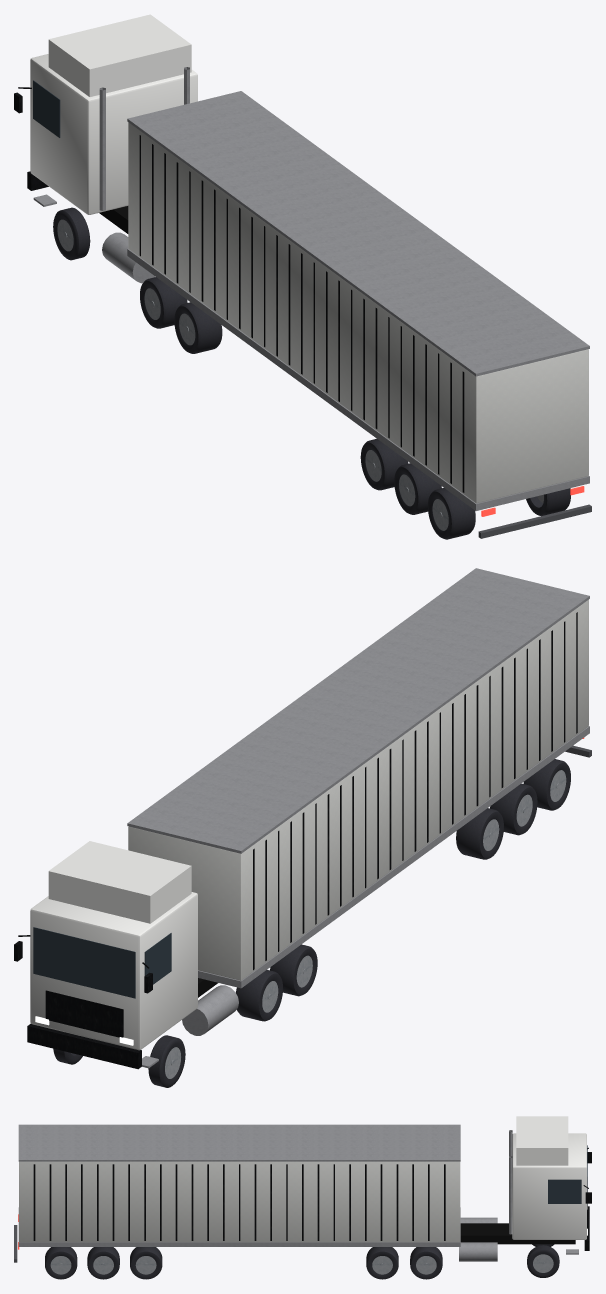
Rendered from truck_artic_white.gltf.
3 renders of one model, top to bottom at view 1: azimuth 30°, elevation 25°; view 2: azimuth 150°, elevation 25°; view 3: azimuth 270°, elevation 25°, orthographic. The views are drawn at different scales.
Visible parts, largest first — view 1: truck_artic_white; view 2: truck_artic_white; view 3: truck_artic_white.
Part boxes in pixels (x1,y1,x2,y2): truck_artic_white: (14,14,591,539); truck_artic_white: (14,568,591,1087); truck_artic_white: (14,1116,591,1279).
Bounding box in the file's own units: 3.02 × 4.4 × 17.8.
13 materials, 8 textured.
